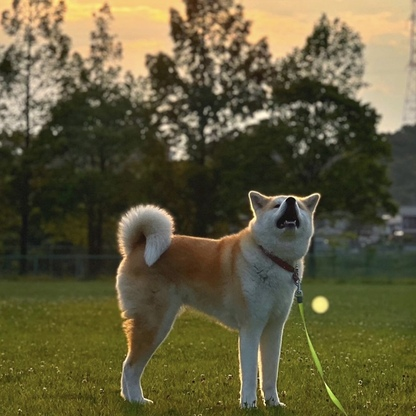akita: (111, 186, 325, 412)
